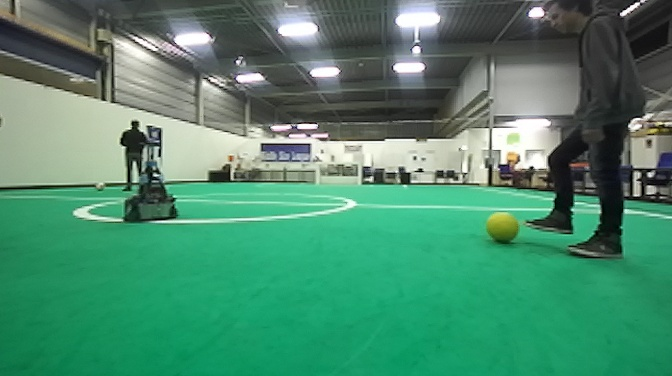ball: (484, 209, 522, 246), (94, 181, 106, 192)
goal: (315, 161, 363, 187)
goalpost: (356, 162, 364, 187), (315, 162, 319, 186)
human: (519, 1, 653, 263), (119, 118, 152, 193)
robot: (120, 140, 180, 225)
